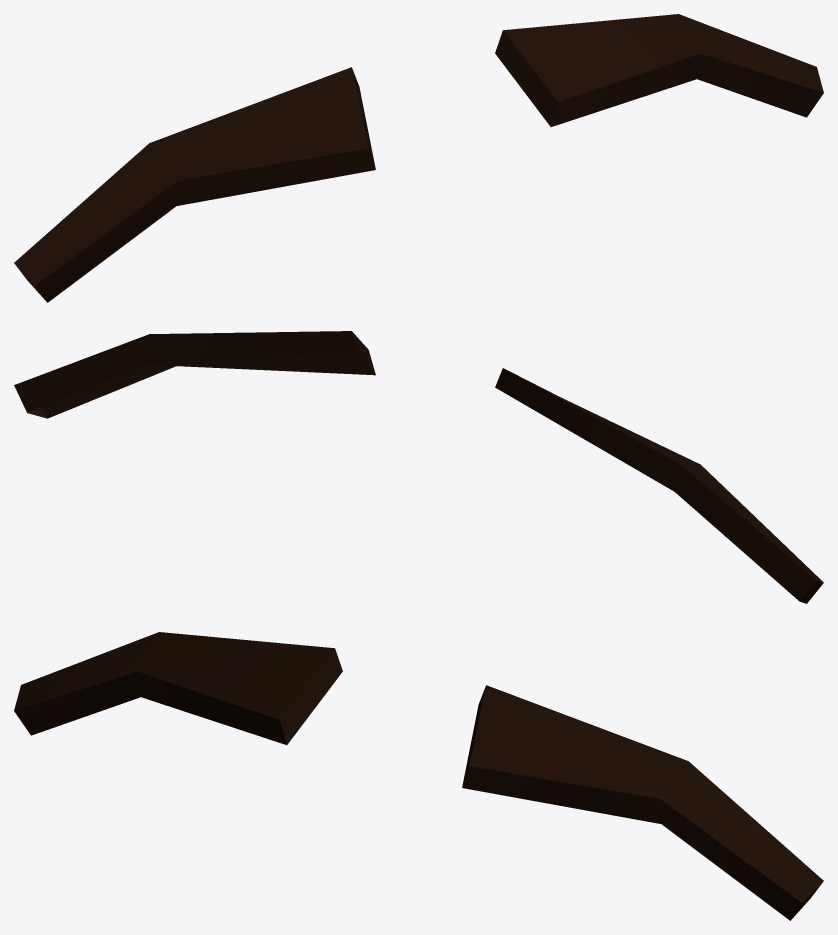
Rendered from Brow 04.FBX.
3 renders of one model, top to bottom at view 1: azimuth 30°, elevation 25°; view 2: azimuth 150°, elevation 25°; view 3: azimuth 330°, elevation 25°, orthographic.
Parts seen in each view (by area): view 1: Brow 04; view 2: Brow 04; view 3: Brow 04.
Boxes of the visible parts, x1,y1,x2,y2 form: Brow 04: (14, 14, 823, 302); Brow 04: (14, 331, 823, 603); Brow 04: (14, 632, 823, 920).
Bounding box in the file's own units: 18.91 × 3.64 × 2.11.
